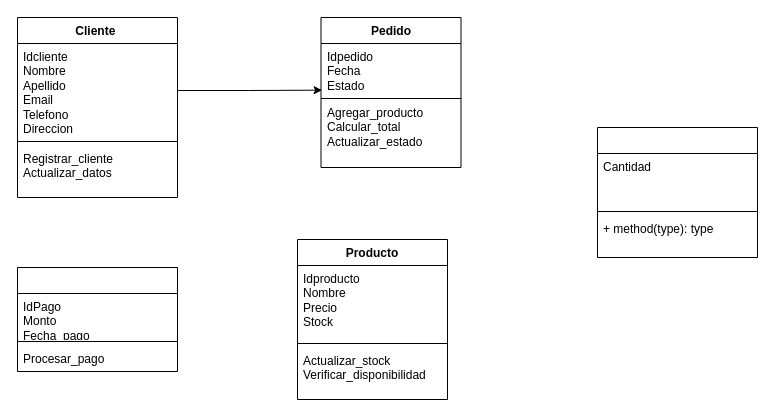
This 775x420 diagram has some shape labels left out. The shapes that lost their labels are listed below. From the top down, each one's box as (x1, y1, x2, y2) in pixels, then its label:
(596, 126, 758, 258): Detalle Pedido
(16, 266, 178, 372): Clase Pago
